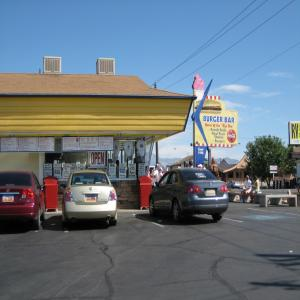Vehicle-registration-plate: (207, 190, 218, 197), (88, 195, 98, 202), (4, 198, 14, 204)
